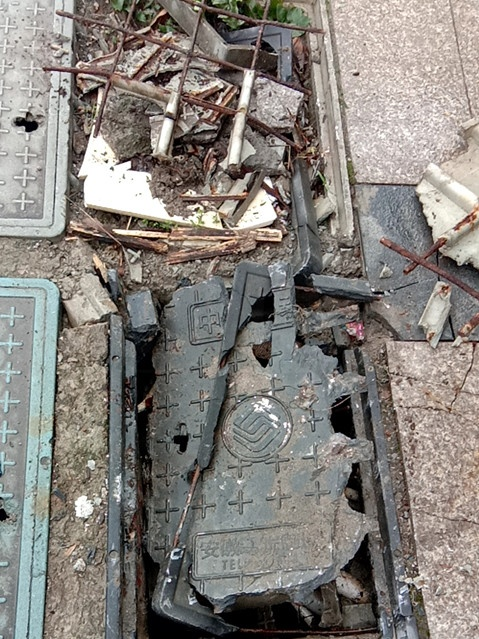broke: (86, 272, 424, 639), (58, 1, 357, 247)
